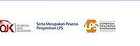ojk: (1, 14, 31, 36)
